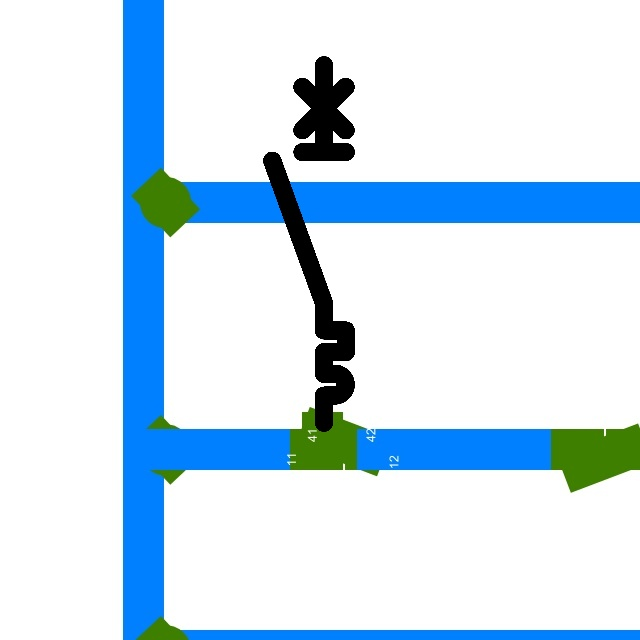interruptor_termomagnetico: (263, 56, 355, 432)
